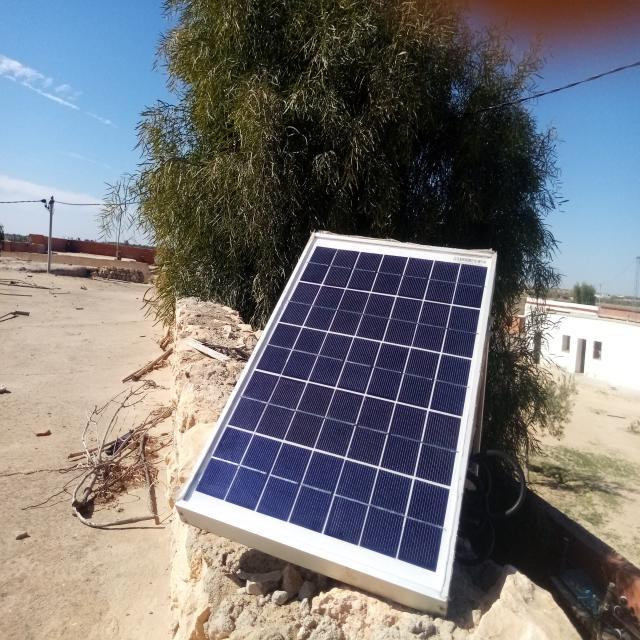no faulty: (178, 234, 497, 601)
